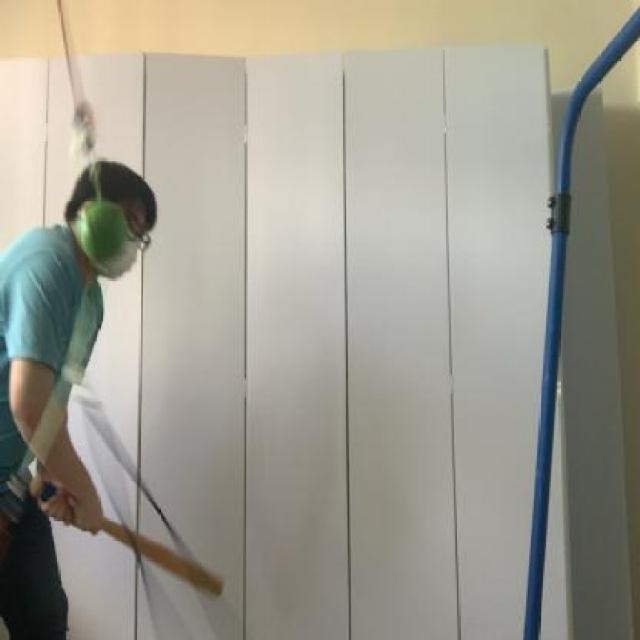baseball: (72, 197, 133, 269)
